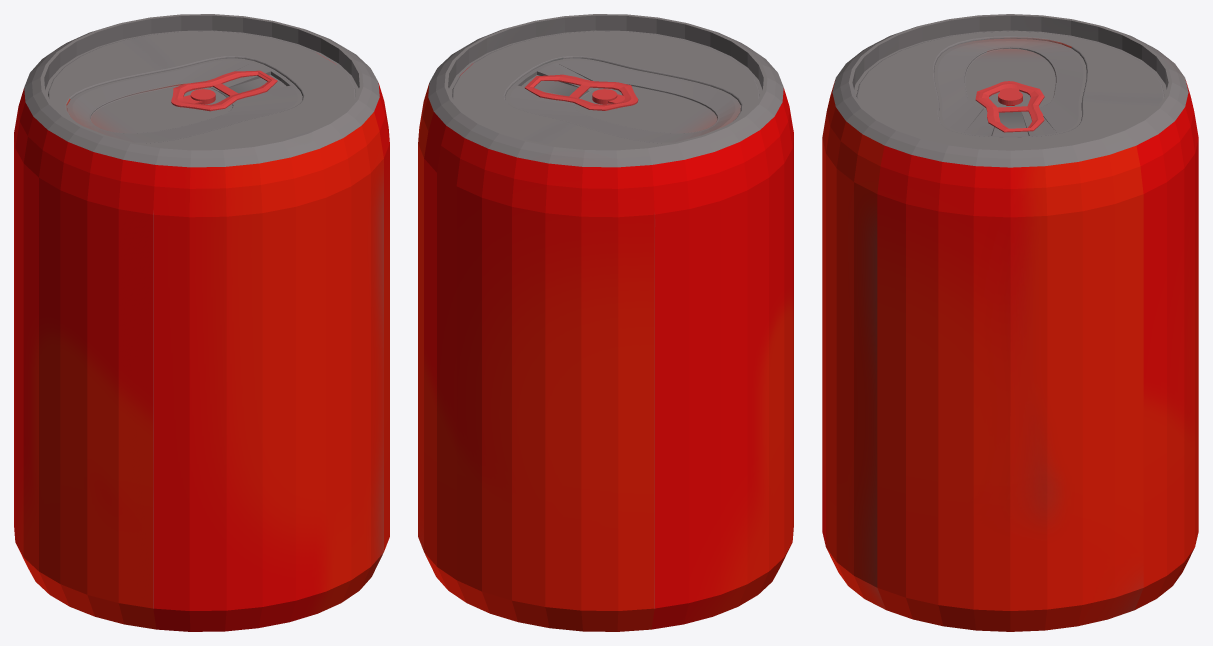
Rendered from can.fbx.
3 renders of one model, left to right at view 1: azimuth 30°, elevation 25°; view 2: azimuth 150°, elevation 25°; view 3: azimuth 270°, elevation 25°, orthographic.
Parts seen in each view (by area): view 1: BézierCircle, BézierCircle.001; view 2: BézierCircle, BézierCircle.001; view 3: BézierCircle, BézierCircle.001.
Part boxes in pixels (x1,y1,x2,y2): BézierCircle: (14,14,389,631); BézierCircle.001: (171,70,277,111); BézierCircle: (418,14,793,631); BézierCircle.001: (524,74,638,110); BézierCircle: (822,14,1198,631); BézierCircle.001: (975,81,1044,132).
Size of the model in its own units: 161 by 226 by 161.
